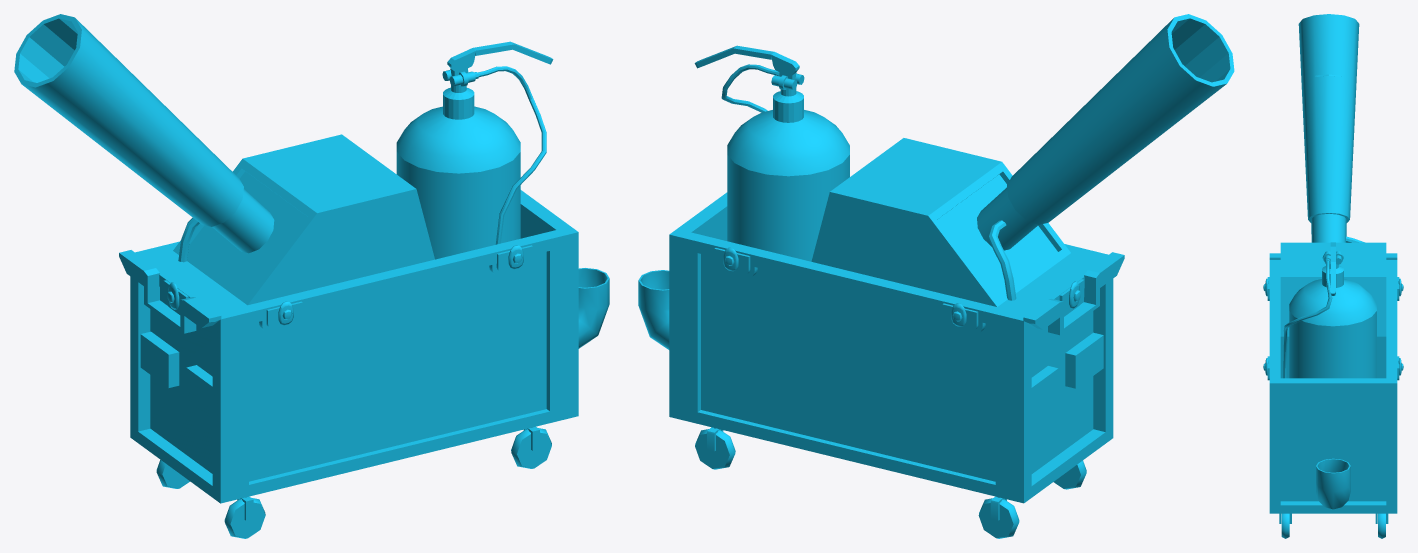
Rendered from Firecracker_MachineModel.fbx.
3 renders of one model, left to right at view 1: azimuth 30°, elevation 25°; view 2: azimuth 150°, elevation 25°; view 3: azimuth 270°, elevation 25°, orthographic. The views are drawn at different scales.
Visible parts, largest first — view 1: Box001 (×2), Cylinder001, Cylinder006, Object006, Box014, Line001, Box015, Cylinder003, Cylinder025; view 2: Box001 (×2), Cylinder001, Cylinder006, Object006, Box015, Box014, Cylinder026, Cylinder027, Line002; view 3: Box001 (×2), Cylinder001, Cylinder006, Object037, Line001, Object005, Cylinder025, Cylinder027.
Boxes of the visible parts, left/top/right/bottom form: Box001 (×2): left=130, top=134, right=609, bottom=503; Cylinder001: left=14, top=14, right=274, bottom=253; Cylinder006: left=396, top=84, right=520, bottom=259; Object006: left=119, top=250, right=221, bottom=333; Box014: left=140, top=331, right=179, bottom=387; Line001: left=474, top=66, right=546, bottom=244; Box015: left=186, top=365, right=212, bottom=419; Cylinder003: left=224, top=498, right=265, bottom=538; Cylinder025: left=511, top=428, right=551, bottom=468; Box001 (×2): left=638, top=138, right=1113, bottom=503; Cylinder001: left=977, top=14, right=1234, bottom=250; Cylinder006: left=727, top=88, right=849, bottom=261; Object006: left=1023, top=252, right=1124, bottom=335; Box015: left=1065, top=332, right=1103, bottom=388; Box014: left=1031, top=366, right=1058, bottom=420; Cylinder026: left=978, top=497, right=1019, bottom=538; Cylinder027: left=695, top=428, right=735, bottom=469; Line002: left=988, top=220, right=1016, bottom=300; Box001 (×2): left=1269, top=242, right=1397, bottom=513; Cylinder001: left=1298, top=14, right=1359, bottom=242; Cylinder006: left=1289, top=264, right=1376, bottom=378; Object037: left=1280, top=336, right=1386, bottom=378; Line001: left=1283, top=258, right=1332, bottom=378; Object005: left=1330, top=246, right=1335, bottom=295; Cylinder025: left=1281, top=513, right=1289, bottom=538; Cylinder027: left=1378, top=513, right=1385, bottom=538.
Size of the model in its own units: 83.2 by 72.09 by 24.32.
